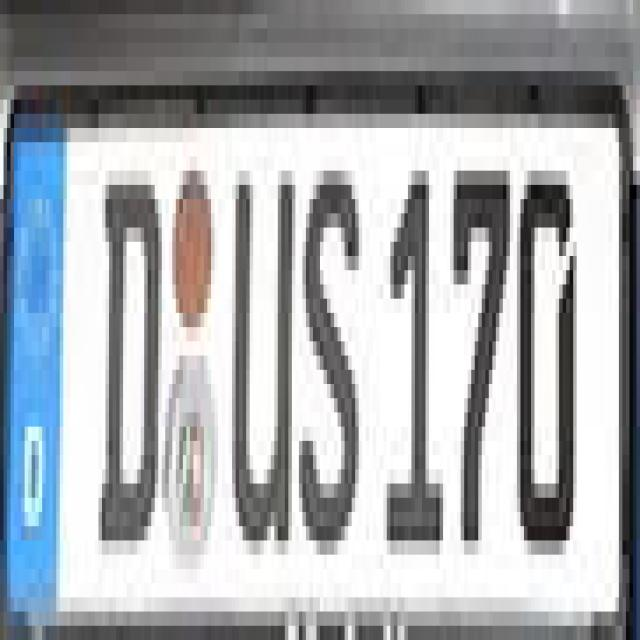Allemagne: (9, 109, 63, 603)
EU: (0, 91, 632, 637)
